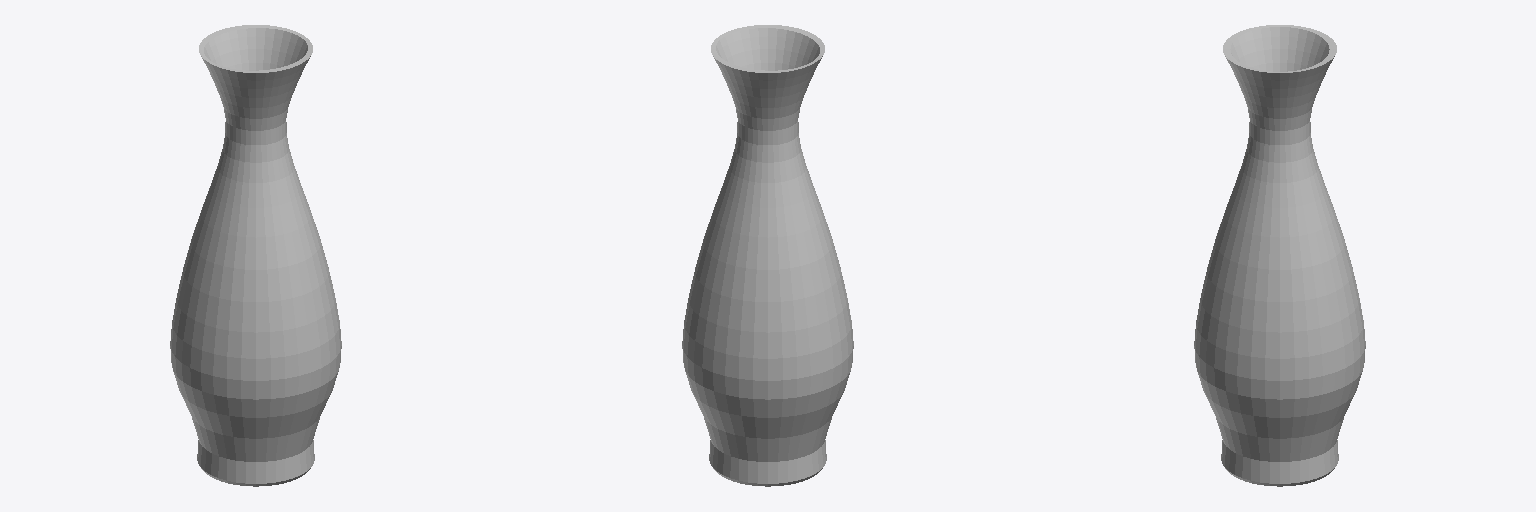
File: Flowerpot.obj
The picture shows the model from 3 angles: view 1: azimuth 30°, elevation 25°; view 2: azimuth 150°, elevation 25°; view 3: azimuth 270°, elevation 25°; orthographic projection.
Parts seen in each view (by area): view 1: Vaso_Cube, Bordo_Cube.006; view 2: Vaso_Cube, Bordo_Cube.006; view 3: Vaso_Cube, Bordo_Cube.006.
Part boxes in pixels (x1,y1,x2,y2): Vaso_Cube: (170, 28, 341, 486); Bordo_Cube.006: (199, 25, 312, 72); Vaso_Cube: (682, 28, 853, 486); Bordo_Cube.006: (711, 25, 824, 72); Vaso_Cube: (1194, 27, 1365, 486); Bordo_Cube.006: (1223, 25, 1336, 72).
Size of the model in its own units: 0.8688 by 2.31 by 0.8688.